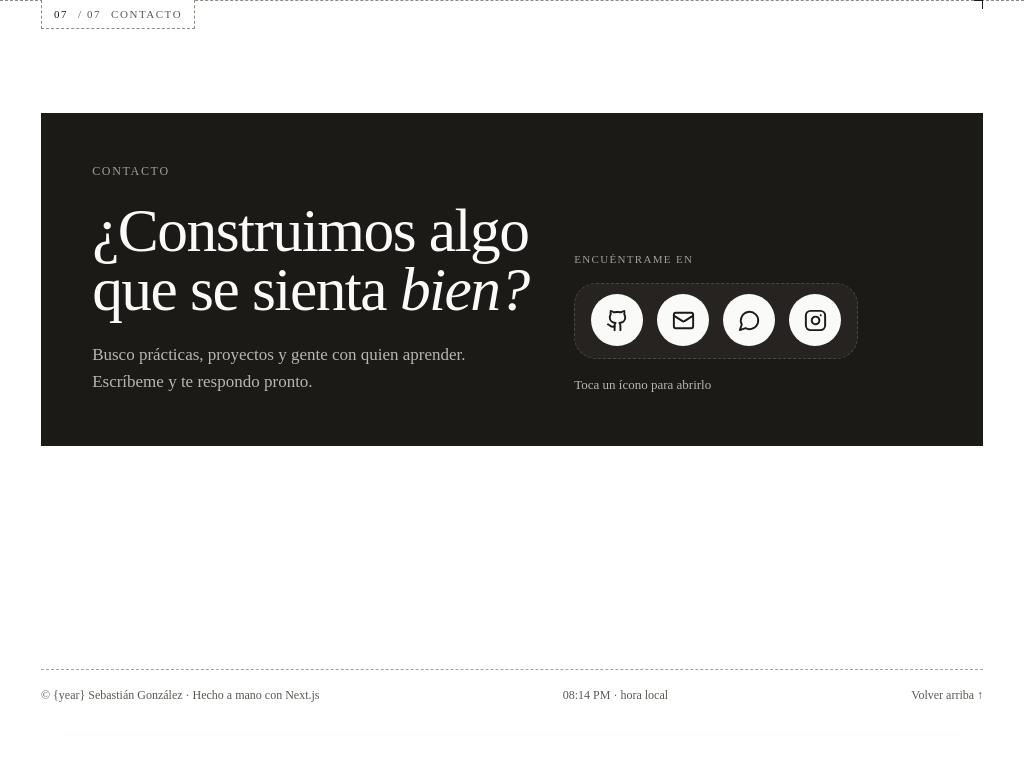
Scenario: Contact › still confirms the copy when the clipboard is blocked
Click the link named "Email". click: x=683, y=320
box: left=657, top=294, right=709, bottom=346
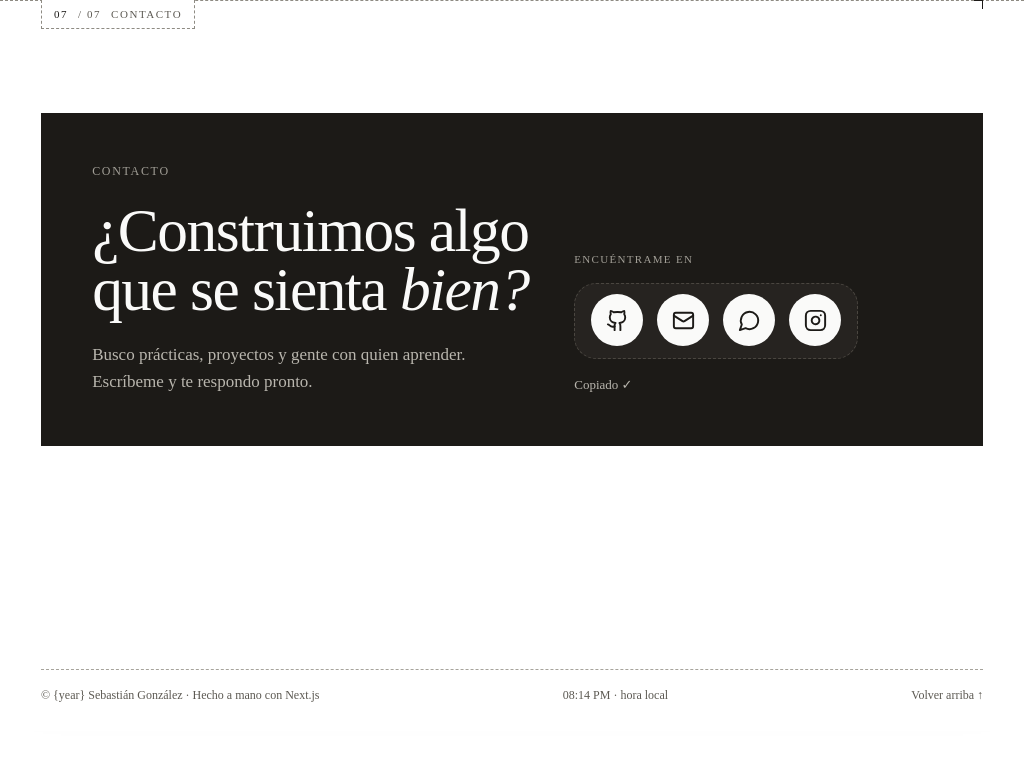
Result: the text with class "caption" reads "Copiado ✓" at left=574, top=377, right=632, bottom=392
